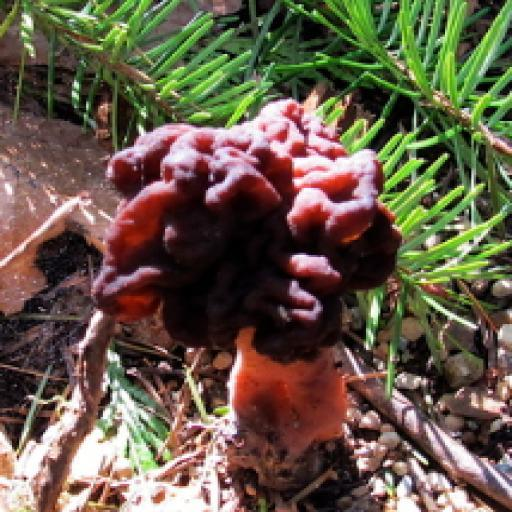mushroom: (32, 49, 437, 484)
